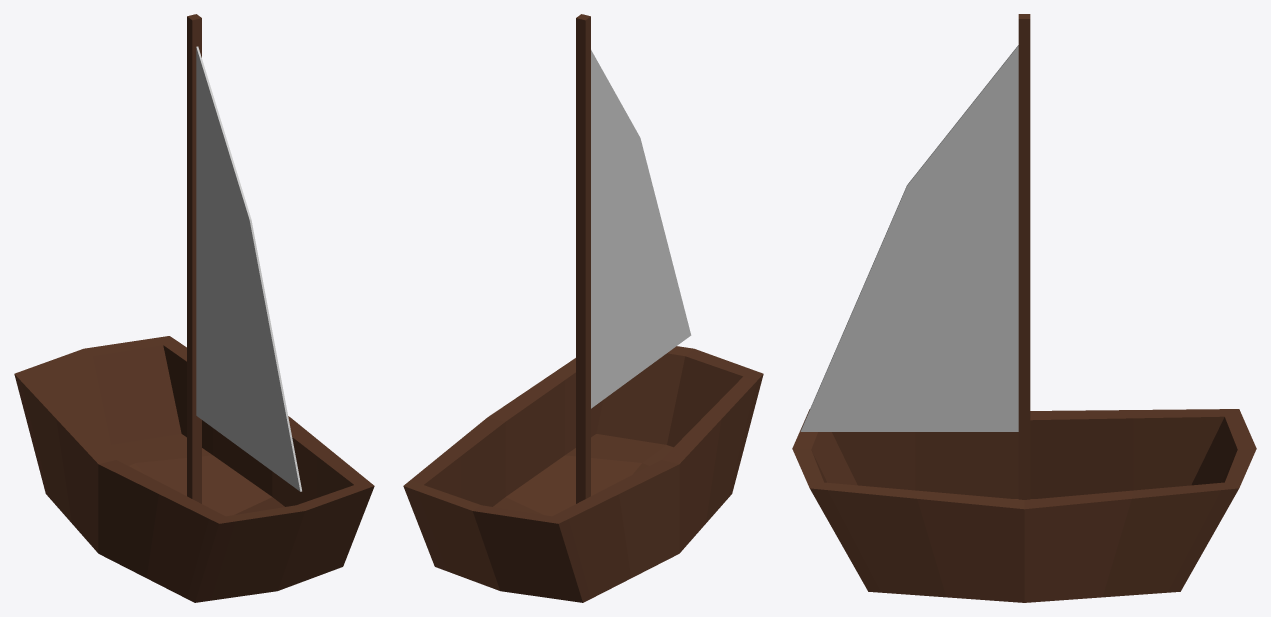
Rendered from boat.gltf.
3 views of the same model, side by side, from view 1: azimuth 30°, elevation 25°; view 2: azimuth 150°, elevation 25°; view 3: azimuth 270°, elevation 25° (orthographic). The views are drawn at different scales.
Visible parts, largest first — view 1: boat; view 2: boat; view 3: boat.
Boxes of the visible parts, left/top/right/bottom form: boat: left=14, top=14, right=374, bottom=602; boat: left=403, top=14, right=763, bottom=602; boat: left=792, top=14, right=1256, bottom=602.
Size of the model in its own units: 4 by 10.86 by 8.
